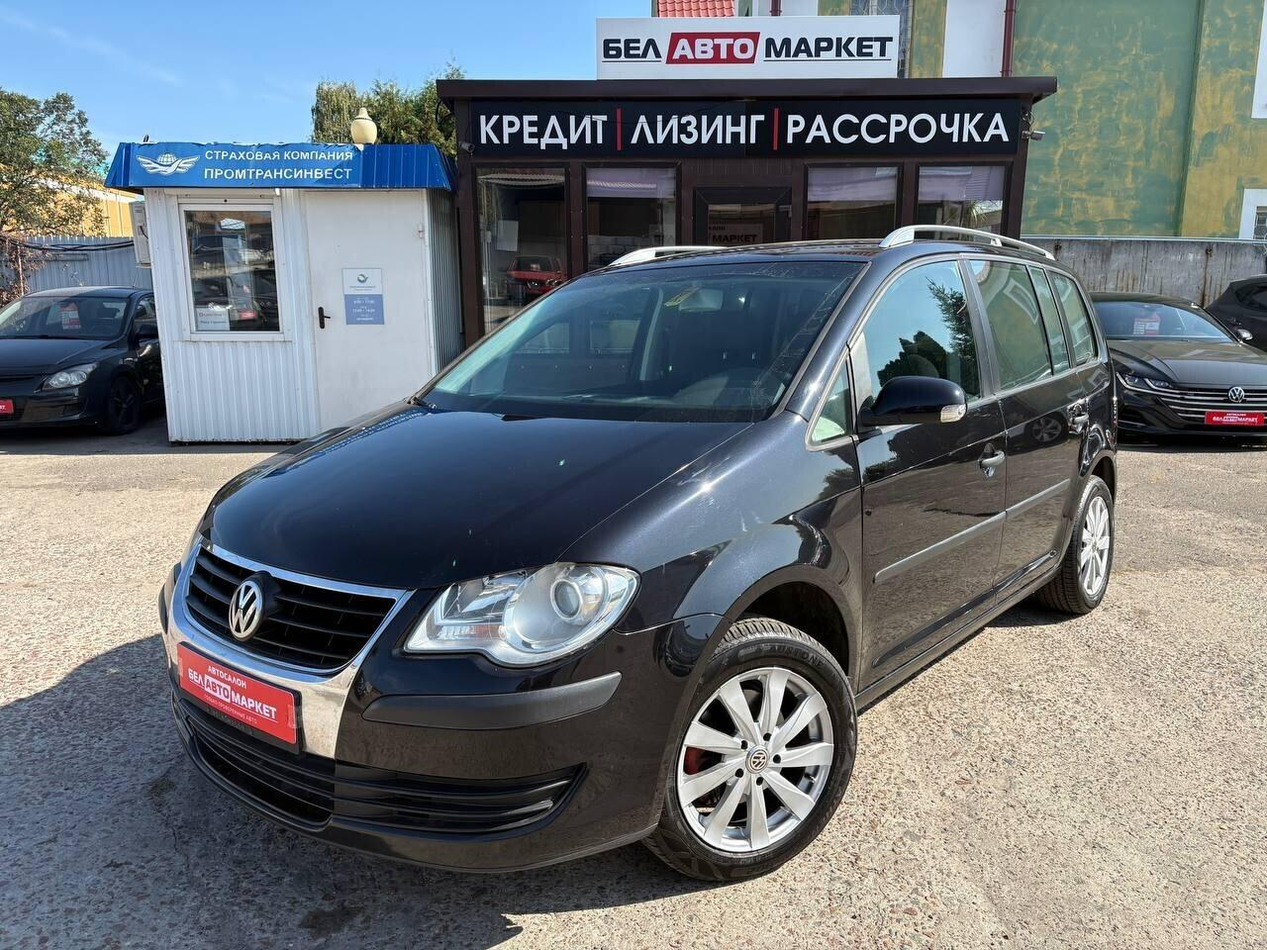Touran_2006-2010: (152, 234, 1122, 891)
